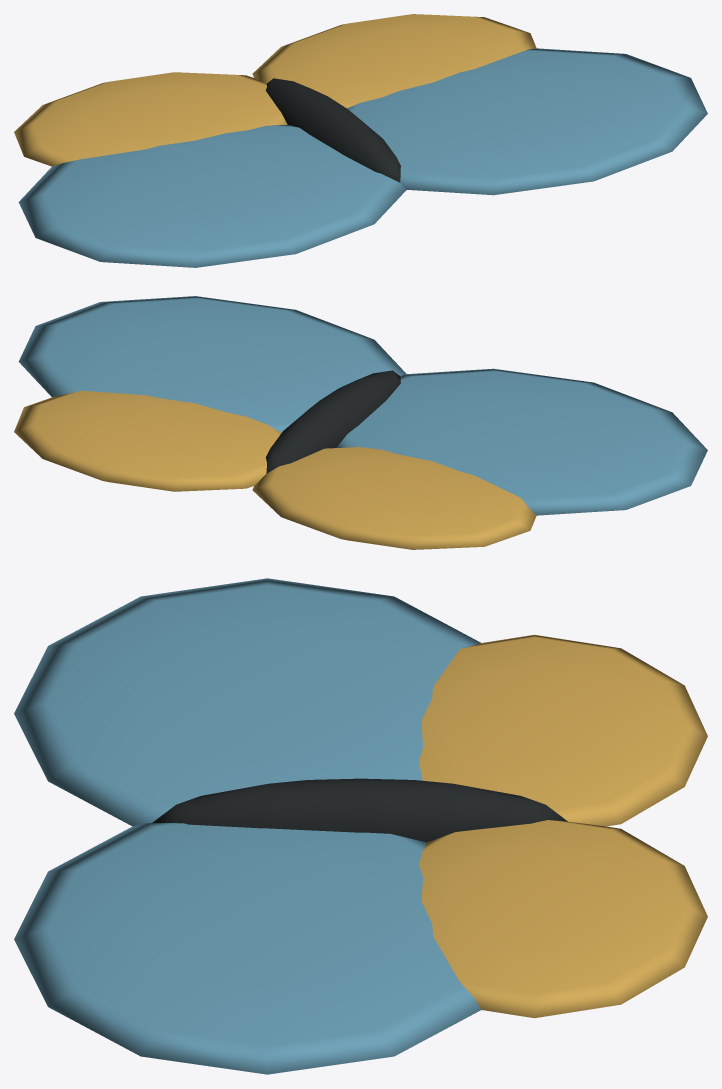
File: butterfly.glb
3 views of the same model, one above another, from view 1: azimuth 30°, elevation 25°; view 2: azimuth 150°, elevation 25°; view 3: azimuth 270°, elevation 25° (orthographic). The views are drawn at different scales.
Parts seen in each view (by area): view 1: upper_wing, upper_wing.001, lower_wing, lower_wing.001, body; view 2: upper_wing, upper_wing.001, lower_wing, lower_wing.001, body; view 3: upper_wing.001, upper_wing, lower_wing.001, lower_wing, body.
Part boxes in pixels (x1,y1,x2,y2): upper_wing: (18,124,406,267); upper_wing.001: (347,48,707,195); lower_wing: (14,72,287,166); lower_wing.001: (252,14,536,108); body: (265,78,400,182); upper_wing: (336,368,707,515); upper_wing.001: (18,296,406,432); lower_wing: (252,447,536,549); lower_wing.001: (14,390,281,491); body: (266,370,400,473); upper_wing.001: (14,823,481,1074); upper_wing: (14,578,480,826); lower_wing.001: (419,820,707,1018); lower_wing: (419,634,707,826); body: (152,778,567,842).
Bounding box in the file's own units: 0.44 × 0.036 × 0.26.
